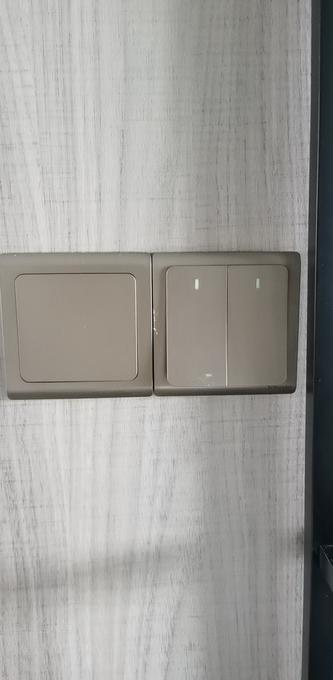switch: (12, 268, 140, 384), (227, 263, 291, 390), (164, 263, 226, 387)
